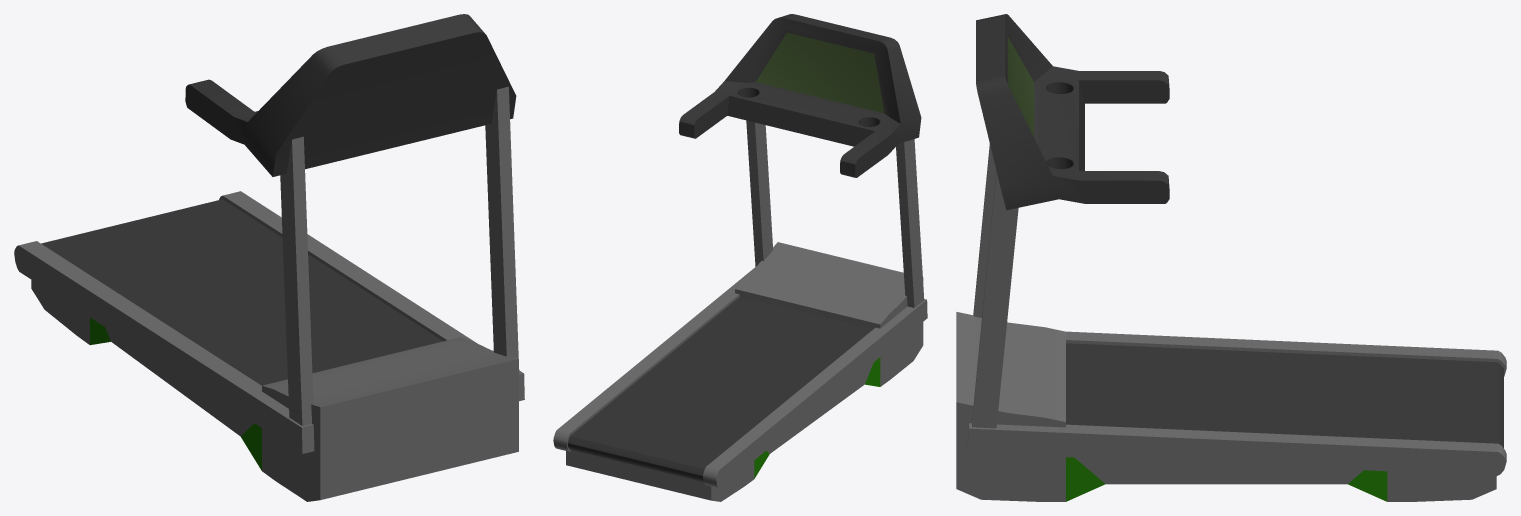
The model's file is treadmill.fbx.
3 renders of one model, left to right at view 1: azimuth 30°, elevation 25°; view 2: azimuth 150°, elevation 25°; view 3: azimuth 270°, elevation 25°, orthographic. The views are drawn at different scales.
Visible parts, largest first — view 1: Treadmill; view 2: Treadmill; view 3: Treadmill.
Part boxes in pixels (x1,y1,x2,y2): Treadmill: (14, 14, 524, 501); Treadmill: (553, 14, 927, 501); Treadmill: (956, 14, 1506, 501).
Size of the model in its own units: 71.88 by 152 by 126.
